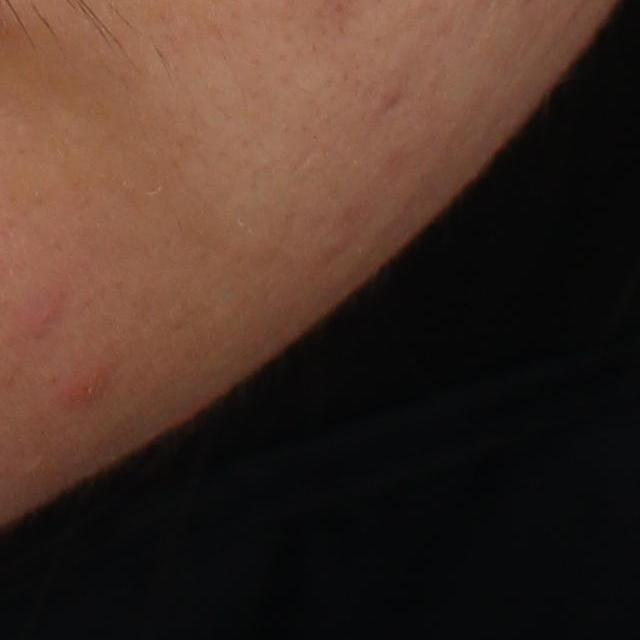papule: (59, 365, 114, 410), (25, 286, 65, 332)
